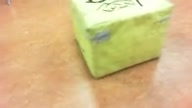cube: (70, 1, 175, 80)
